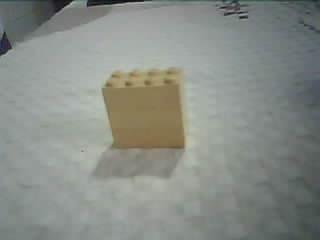lego: (100, 66, 187, 150)
